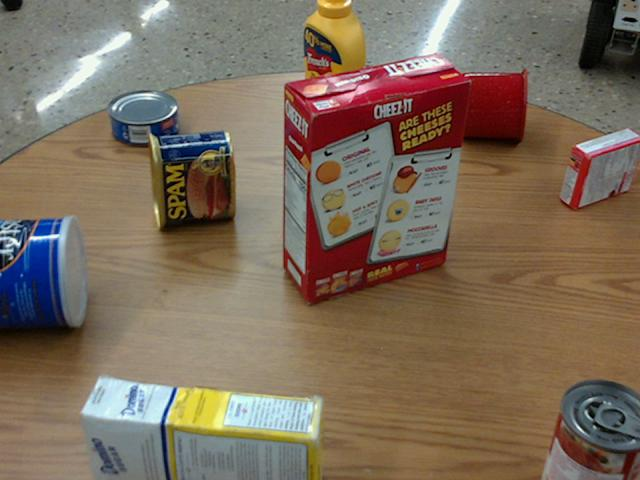cracker_box: (282, 52, 469, 301)
gelatin_box: (561, 129, 639, 210)
master_chef_can: (0, 215, 88, 327)
mug: (458, 66, 527, 141)
mustard_bottle: (302, 0, 364, 141)
potted_meat_can: (147, 128, 234, 226)
sugar_box: (75, 378, 322, 479)
tomato_soup_can: (541, 377, 639, 479)
tuna_fish_can: (109, 88, 178, 144)
